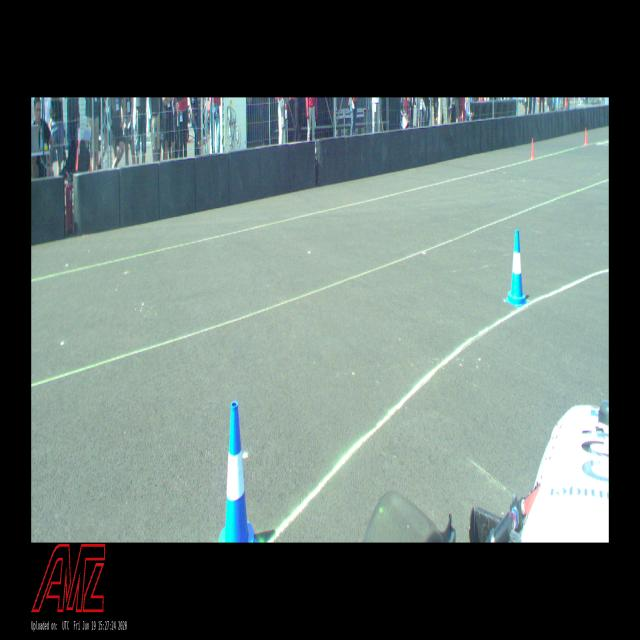blue_cone: (219, 402, 258, 542), (505, 230, 529, 308)
unknown_cone: (529, 138, 535, 160), (584, 128, 588, 145)
